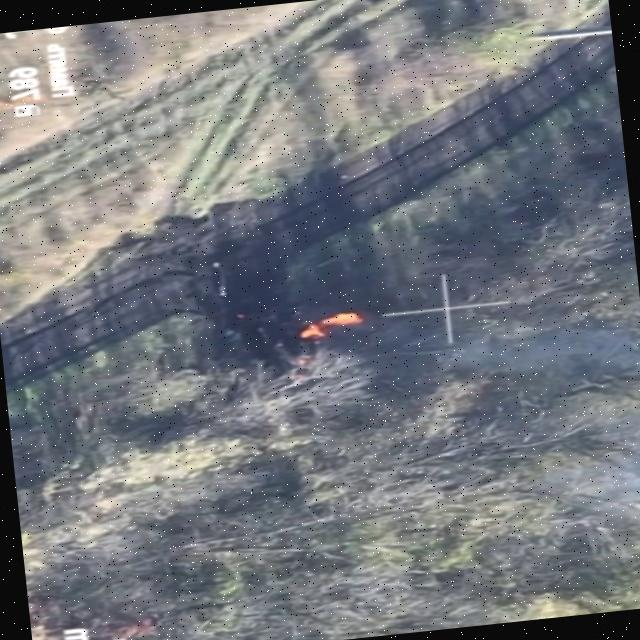Destroyed: (254, 299, 375, 367)
